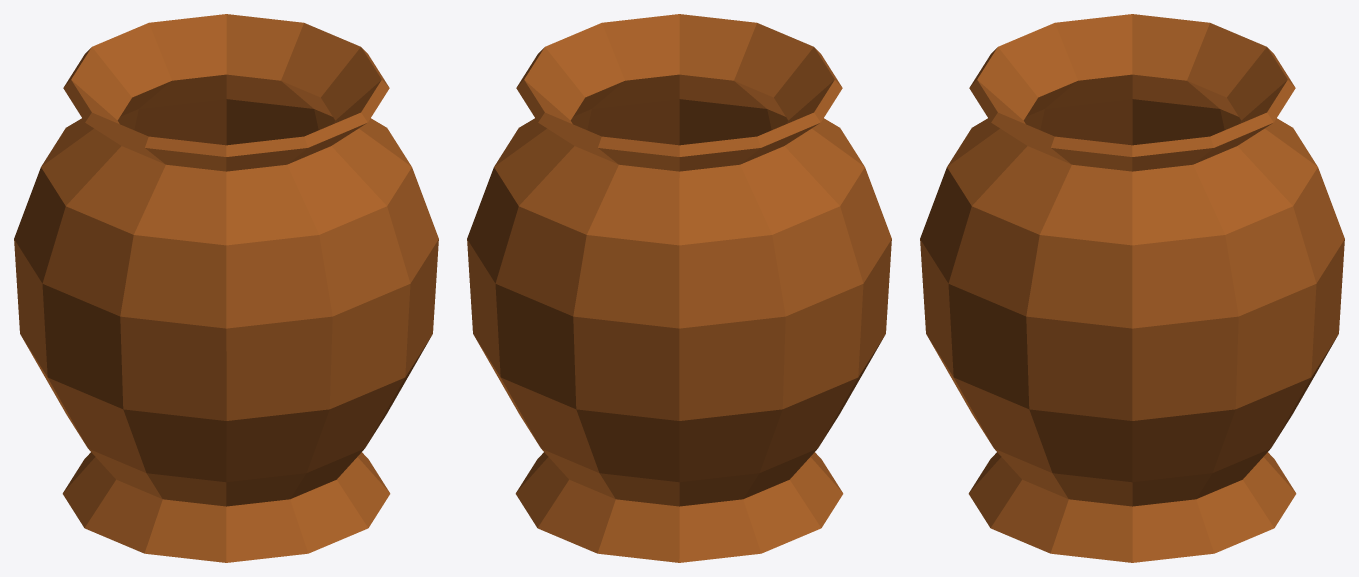
Rendered from SM_pottery_010.FBX.
3 renders of one model, left to right at view 1: azimuth 30°, elevation 25°; view 2: azimuth 150°, elevation 25°; view 3: azimuth 270°, elevation 25°, orthographic.
Visible parts, largest first — view 1: Object094; view 2: Object094; view 3: Object094.
Boxes of the visible parts, x1=… form: Object094: x1=14, y1=14, x2=438, y2=562; Object094: x1=467, y1=14, x2=891, y2=562; Object094: x1=920, y1=14, x2=1344, y2=562.
Size of the model in its own units: 58.69 by 63.1 by 58.69.
